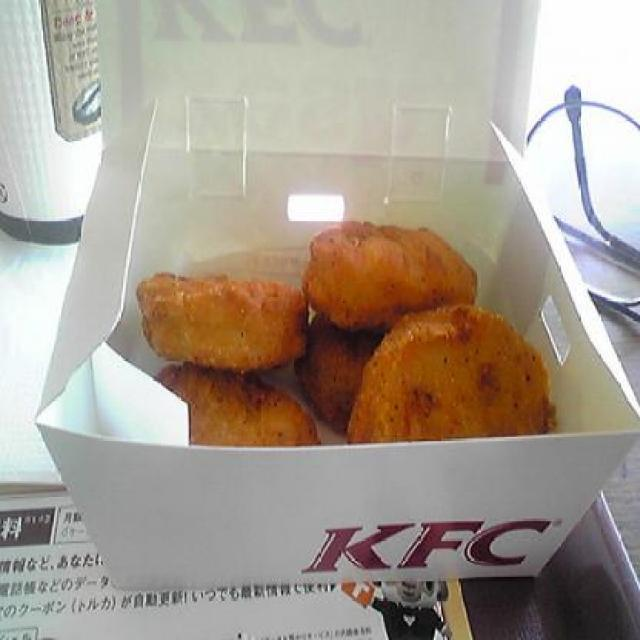Chicken nugget: (71, 173, 574, 570)
